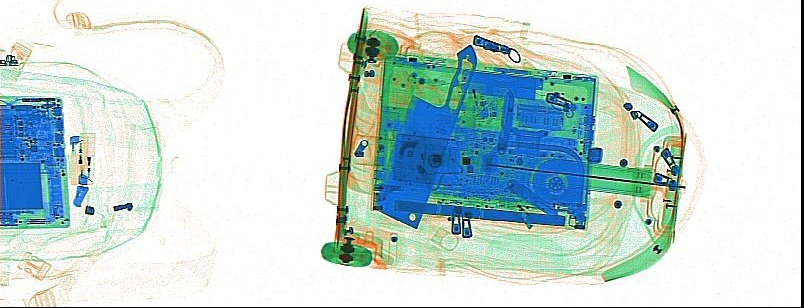knife: (374, 41, 479, 230), (507, 176, 560, 219), (494, 88, 515, 155)
lighter: (76, 131, 97, 186), (67, 133, 85, 187)
